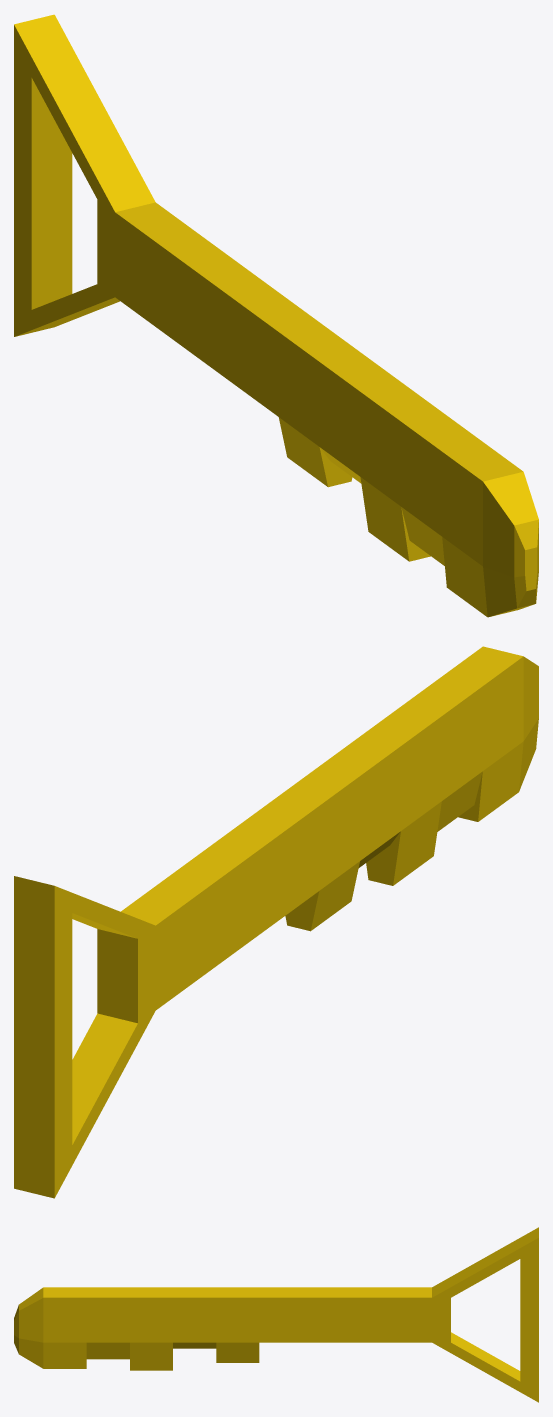
The model's file is key.glb.
3 renders of one model, top to bottom at view 1: azimuth 30°, elevation 25°; view 2: azimuth 150°, elevation 25°; view 3: azimuth 270°, elevation 25°, orthographic. The views are drawn at different scales.
Parts seen in each view (by area): view 1: Cube; view 2: Cube; view 3: Cube.
Boxes of the visible parts, <box> form: Cube: <box>14,14,538,617</box>; Cube: <box>14,646,538,1198</box>; Cube: <box>14,1227,538,1402</box>.
Size of what is drawn, in the model's own units: 0.01 by 0.0736 by 0.2119.
